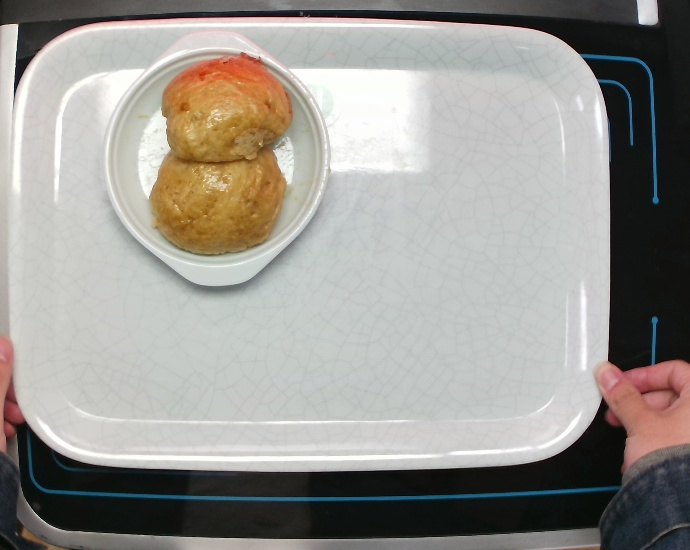JYsf-Shuang_Er_Pan: (98, 28, 330, 291)
